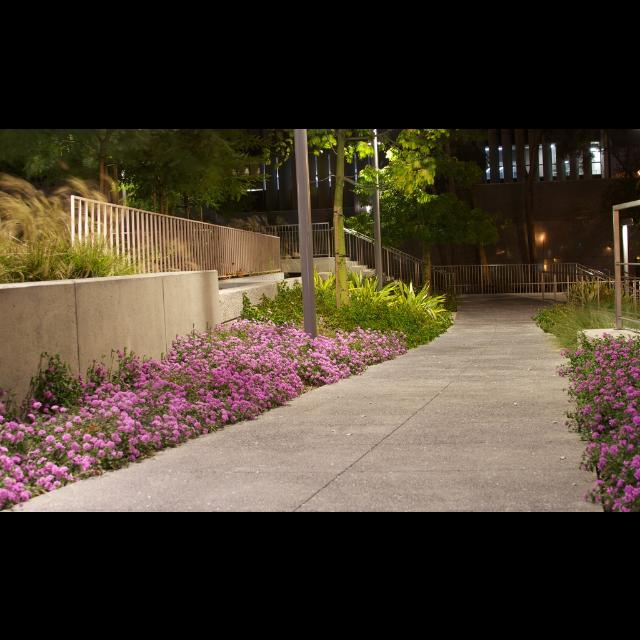Flower: (0, 306, 404, 510), (552, 326, 640, 512)
